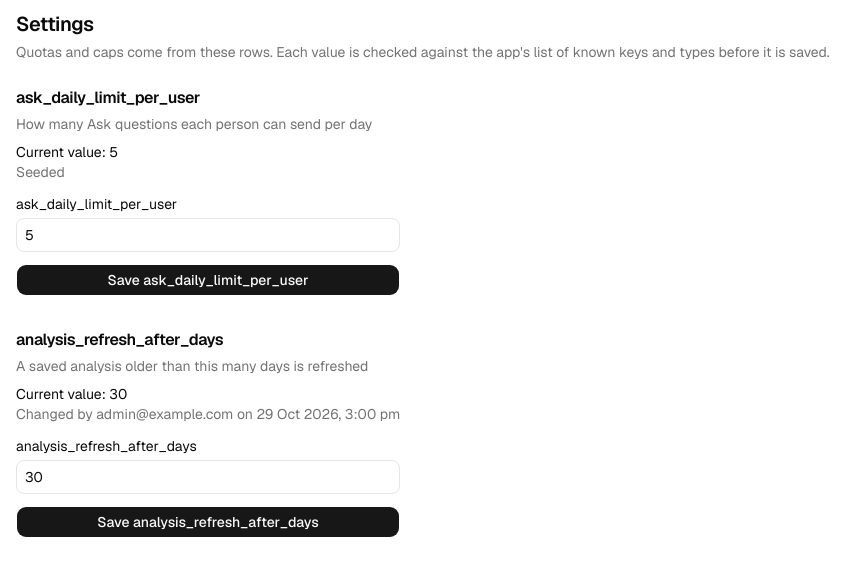
Test: admin settings page › editing a row posts exactly { key, value } with value a number, then shows the saved row
Replace the text in the number field labelled "ask_daily_limit_per_user" with "7" at (208, 235), box [16,218,400,252]
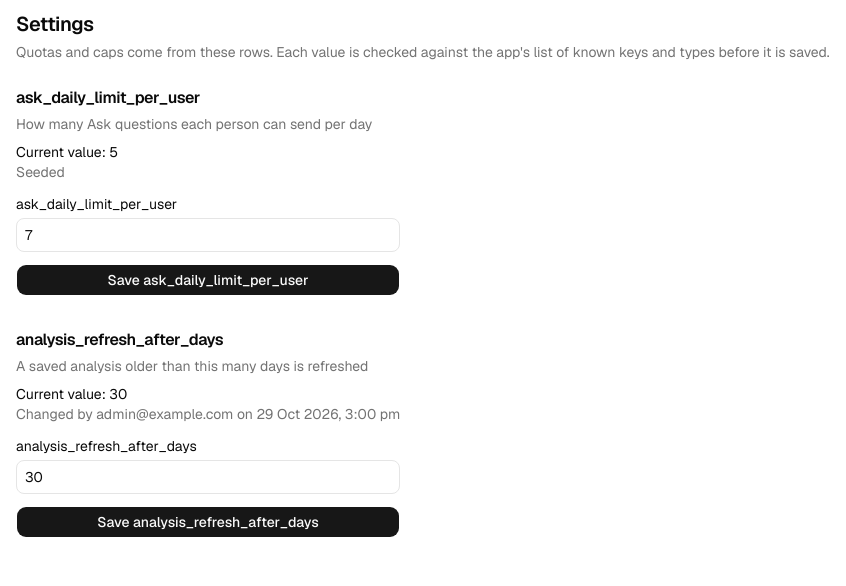
Click the button "Save ask_daily_limit_per_user" at (208, 280), box [16,264,400,296]
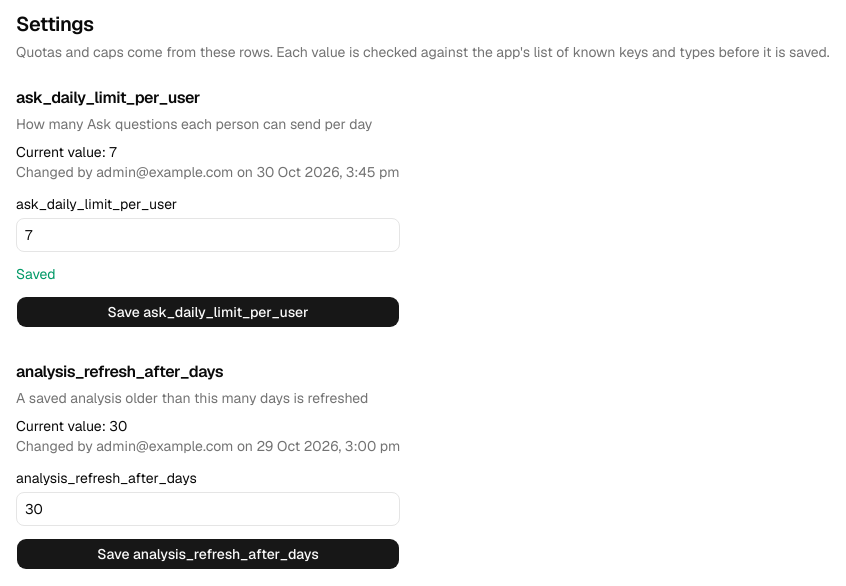
Result: the text "Current value: 7" is shown at [16,143,117,161]
Result: the text "Changed by admin@example.com on 30 Oct 2026, 3:45 pm" is shown at [16,163,400,181]
Result: the text "Saved" is shown at [16,265,56,283]
